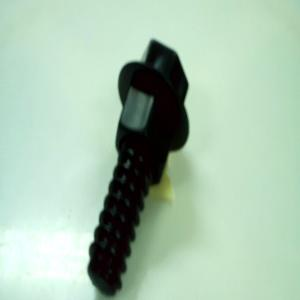parafuso: (83, 35, 193, 300), (86, 35, 193, 298)
